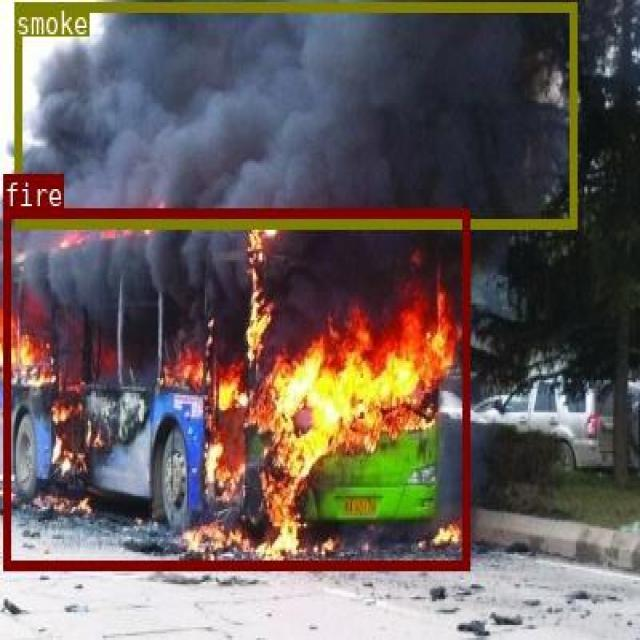fire: (2, 206, 468, 569)
smoke: (13, 1, 575, 226)
